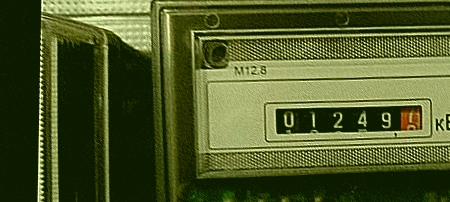0: (283, 110, 296, 130)
1: (308, 110, 318, 129)
2: (332, 111, 345, 131)
4: (357, 110, 368, 129)
7: (405, 106, 417, 125)
9: (380, 111, 393, 132)
screen: (257, 96, 432, 145)
